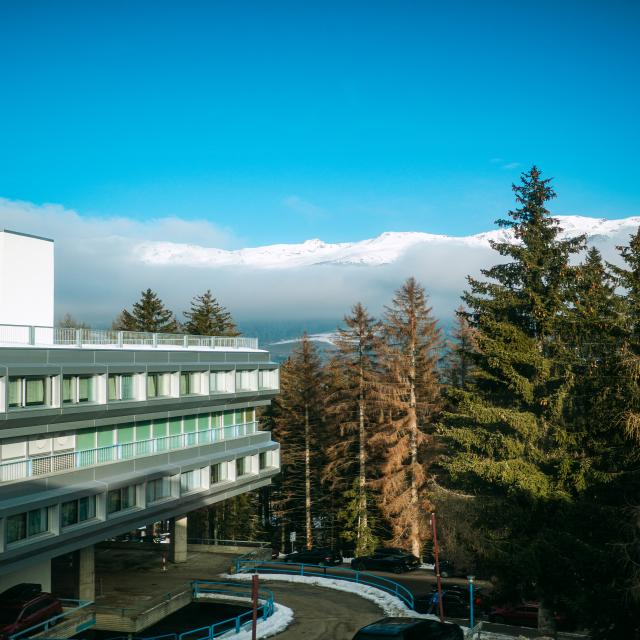building: (0, 228, 280, 596)
